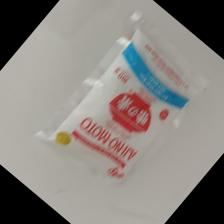Ajinomoto: (46, 29, 203, 189)
